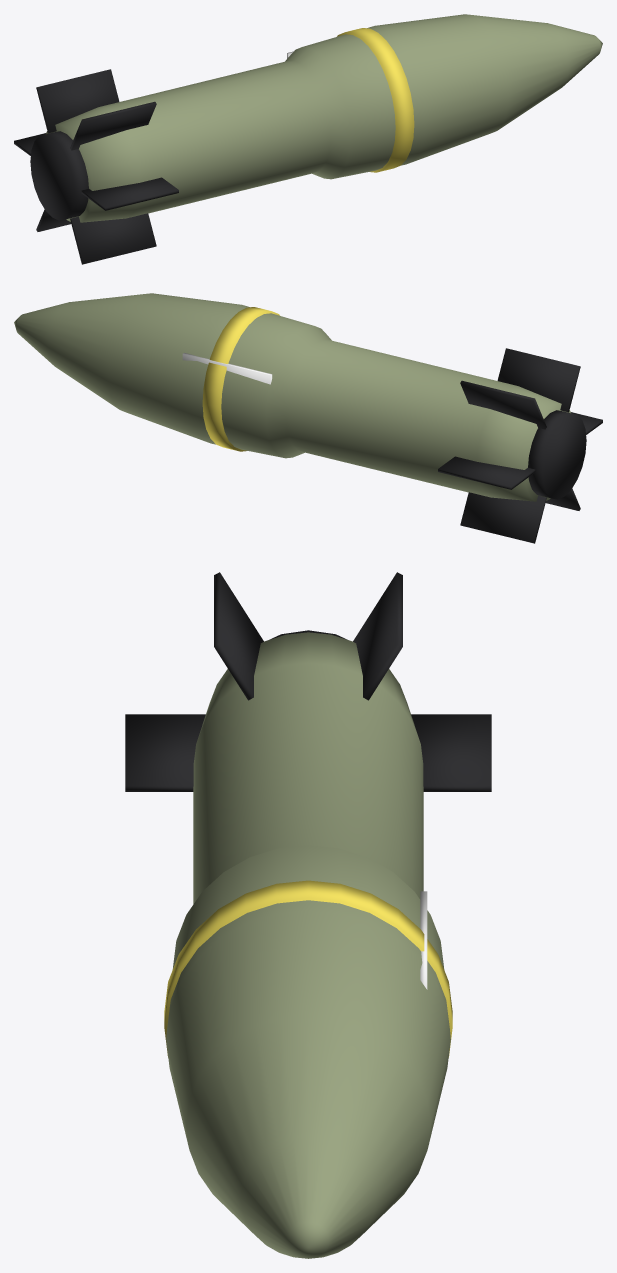
Rendered from SM_Ammo_rocket.glb.
The picture shows the model from 3 angles, top to bottom: view 1: azimuth 30°, elevation 25°; view 2: azimuth 150°, elevation 25°; view 3: azimuth 270°, elevation 25°; orthographic projection. The views are drawn at different scales.
Parts seen in each view (by area): view 1: SM_Ammo_rocket; view 2: SM_Ammo_rocket; view 3: SM_Ammo_rocket.
Part boxes in pixels (x1=…): SM_Ammo_rocket: x1=14, y1=14, x2=602, y2=264; SM_Ammo_rocket: x1=14, y1=293, x2=602, y2=543; SM_Ammo_rocket: x1=125, y1=572, x2=491, y2=1258.
Size of the model in its own units: 0.375 by 0.0945 by 0.108.
